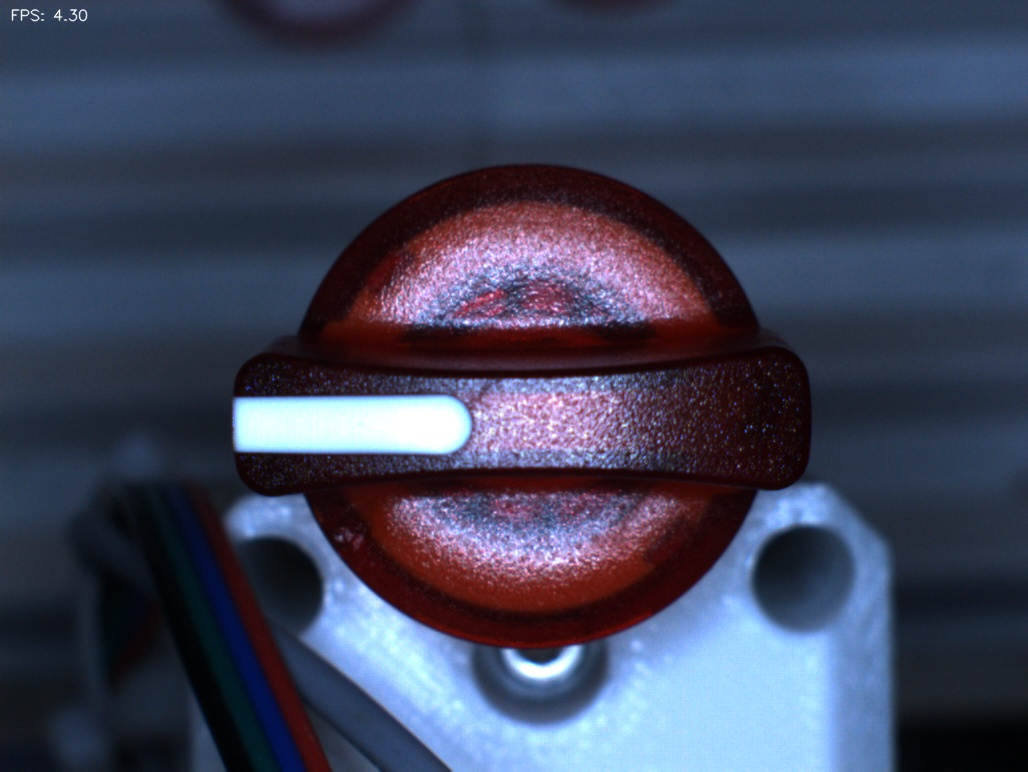Choc: (310, 497, 388, 575)
